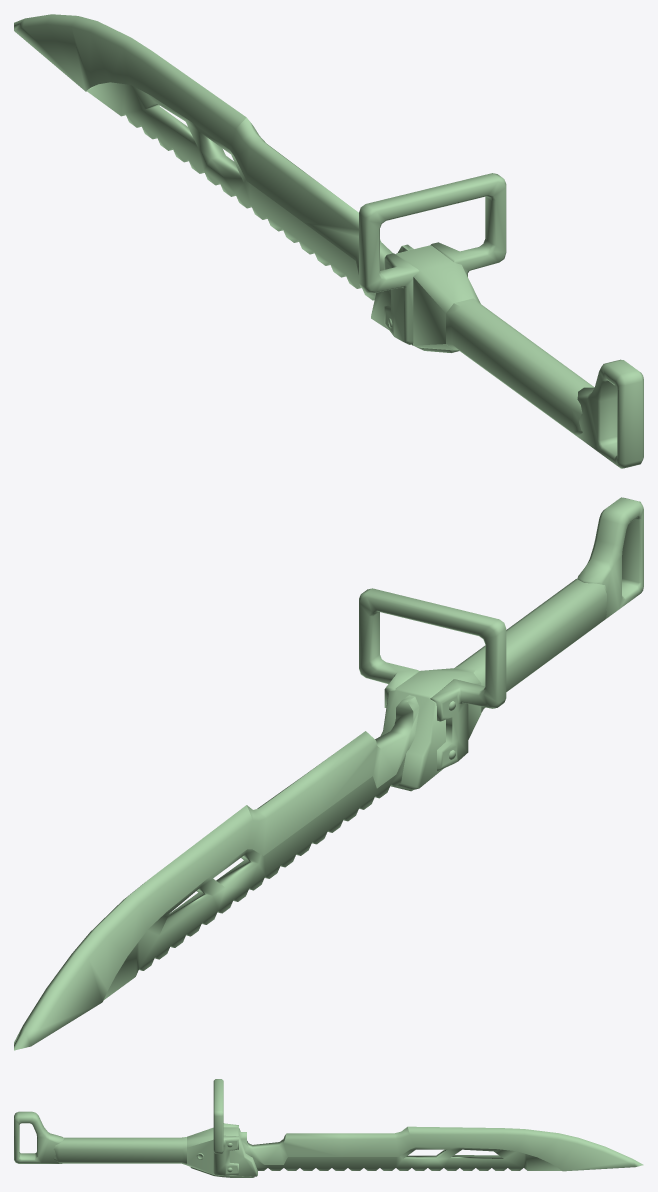
File: Ronin_Prime_Sword.fbx
The picture shows the model from 3 angles, top to bottom: view 1: azimuth 30°, elevation 25°; view 2: azimuth 150°, elevation 25°; view 3: azimuth 270°, elevation 25°; orthographic projection. The views are drawn at different scales.
Parts seen in each view (by area): view 1: w_titan_sword_prime_lod0; view 2: w_titan_sword_prime_lod0; view 3: w_titan_sword_prime_lod0.
Part boxes in pixels (bbox=[...]): w_titan_sword_prime_lod0: bbox=[14, 14, 643, 468]; w_titan_sword_prime_lod0: bbox=[14, 497, 643, 1050]; w_titan_sword_prime_lod0: bbox=[14, 1079, 643, 1177].
Bounding box in the file's own units: 2334 × 2485 × 17789.
